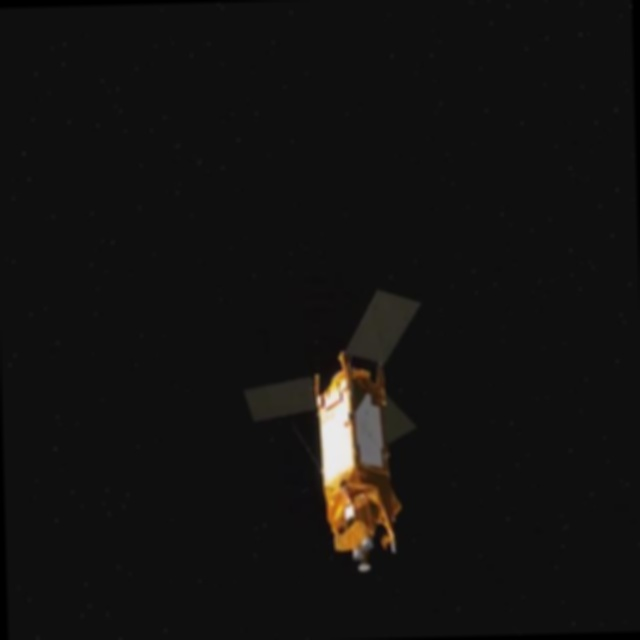medium_debris: (244, 238, 442, 587)
